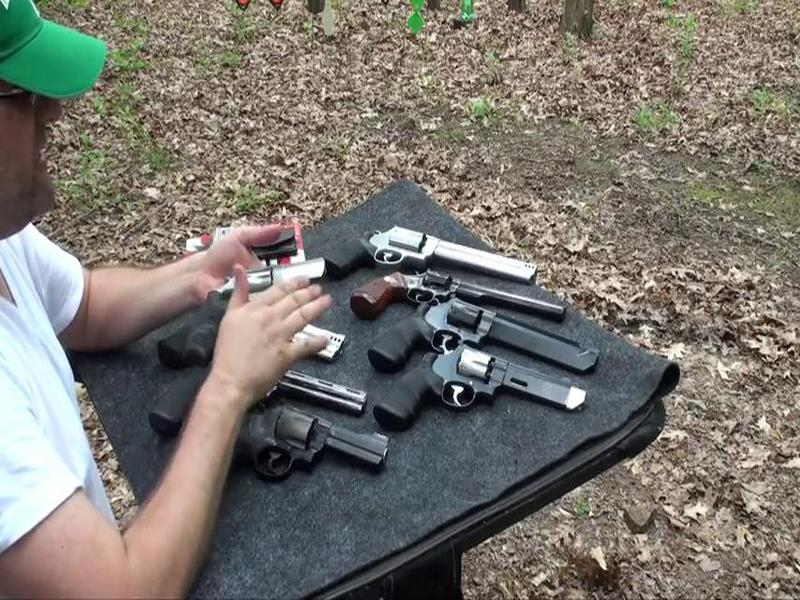Revolver: (327, 219, 535, 293)
